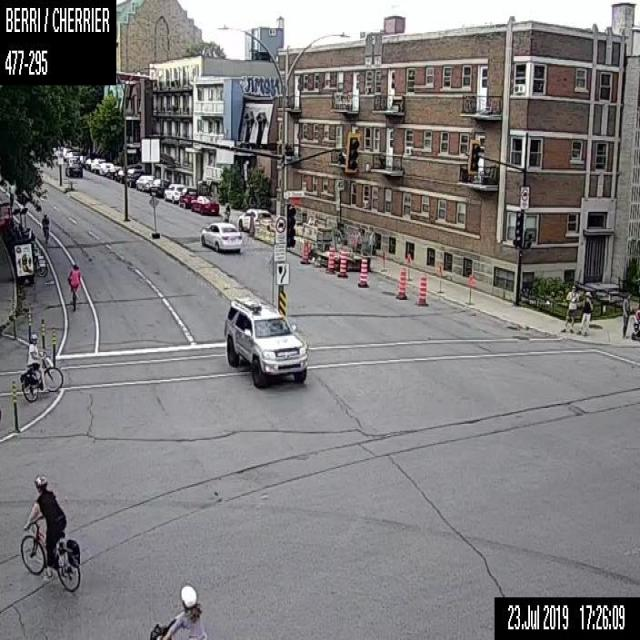construction: (414, 274, 429, 306), (464, 275, 476, 305), (357, 256, 368, 288), (434, 264, 446, 293), (396, 267, 406, 299), (337, 250, 348, 278), (11, 380, 17, 431), (300, 238, 310, 264), (326, 244, 334, 272), (26, 309, 31, 347), (380, 245, 387, 271), (40, 316, 45, 351), (406, 252, 412, 280), (11, 307, 15, 340), (51, 324, 54, 365)
cyclist: (19, 475, 80, 592), (148, 582, 206, 638), (19, 332, 63, 401), (67, 264, 79, 308), (41, 213, 49, 243)
pedestrian: (621, 292, 639, 340), (575, 290, 592, 336), (561, 284, 577, 332), (222, 202, 229, 222)
vehicle: (223, 298, 306, 391), (200, 221, 241, 251), (238, 208, 272, 234), (190, 195, 218, 212), (178, 186, 198, 207), (164, 182, 184, 202), (149, 178, 170, 195), (125, 168, 144, 186), (64, 158, 82, 176), (134, 175, 152, 190), (90, 157, 105, 173), (106, 166, 121, 178), (99, 162, 113, 173), (114, 169, 124, 182), (84, 157, 91, 168)
